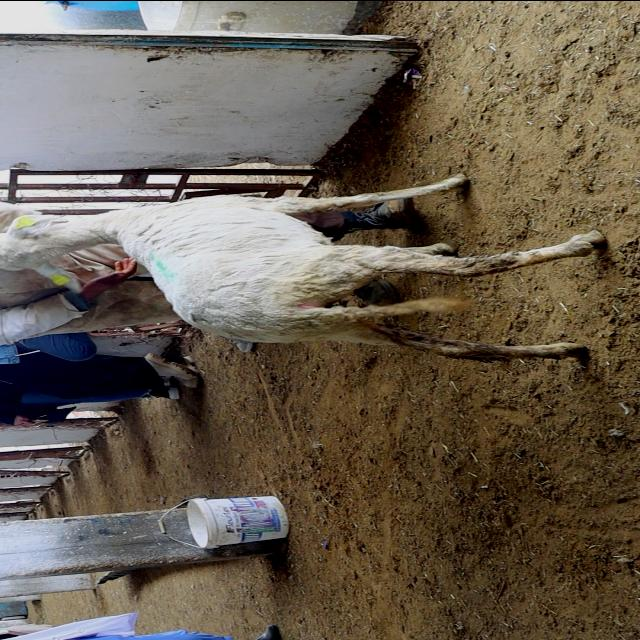Score_5: (0, 173, 604, 360)
